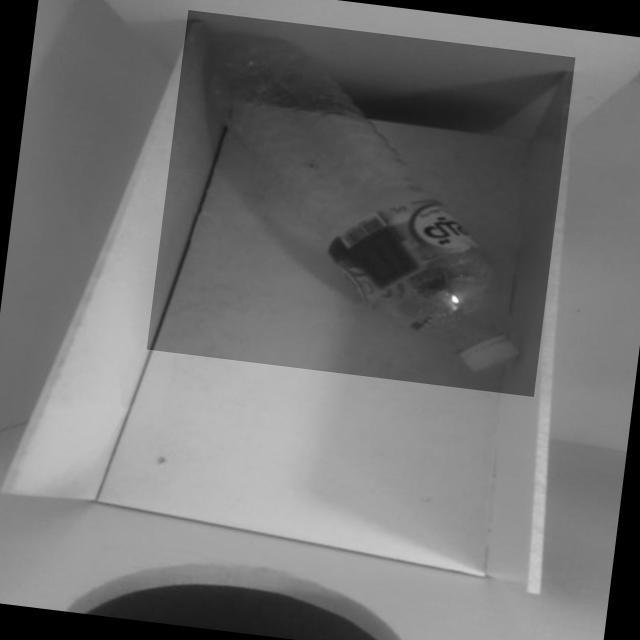good: (145, 10, 574, 397)
